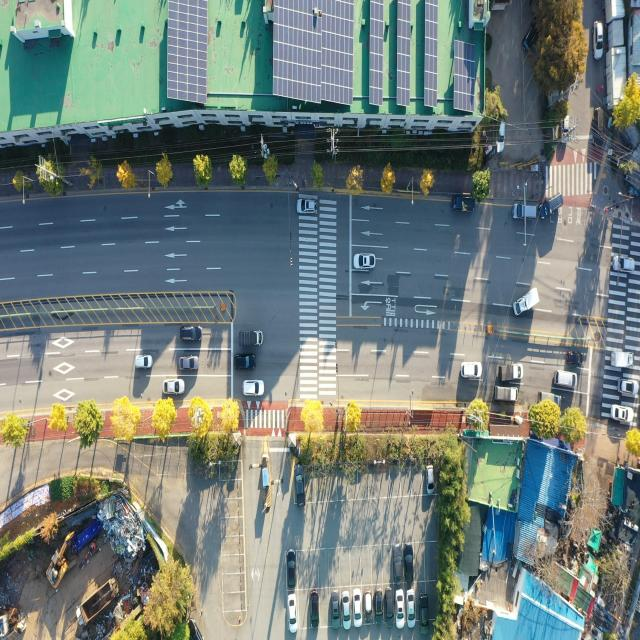car: (540, 192, 564, 219), (523, 18, 539, 52), (295, 464, 306, 505), (611, 255, 636, 273), (513, 202, 537, 220), (593, 20, 604, 58), (594, 106, 605, 144), (553, 372, 577, 389), (353, 252, 375, 270), (495, 118, 506, 154), (310, 591, 320, 630), (419, 593, 428, 636), (404, 546, 414, 584), (373, 588, 383, 624), (394, 544, 403, 584), (288, 594, 297, 632), (613, 406, 634, 422), (396, 591, 405, 628), (242, 381, 264, 396), (620, 379, 639, 396), (236, 354, 256, 370), (560, 112, 570, 144), (164, 380, 185, 395), (298, 199, 319, 214), (353, 591, 362, 626), (461, 362, 480, 378), (408, 591, 416, 627), (386, 588, 394, 624), (180, 327, 202, 340), (566, 350, 583, 366), (135, 354, 153, 369), (179, 356, 198, 370), (288, 555, 296, 588), (330, 594, 339, 623), (343, 592, 351, 623), (425, 465, 433, 494), (364, 589, 371, 619)
small_truck: (513, 285, 540, 319), (499, 362, 524, 382), (610, 350, 634, 370), (538, 391, 561, 410), (492, 386, 518, 402), (449, 198, 473, 215), (241, 331, 263, 348)
